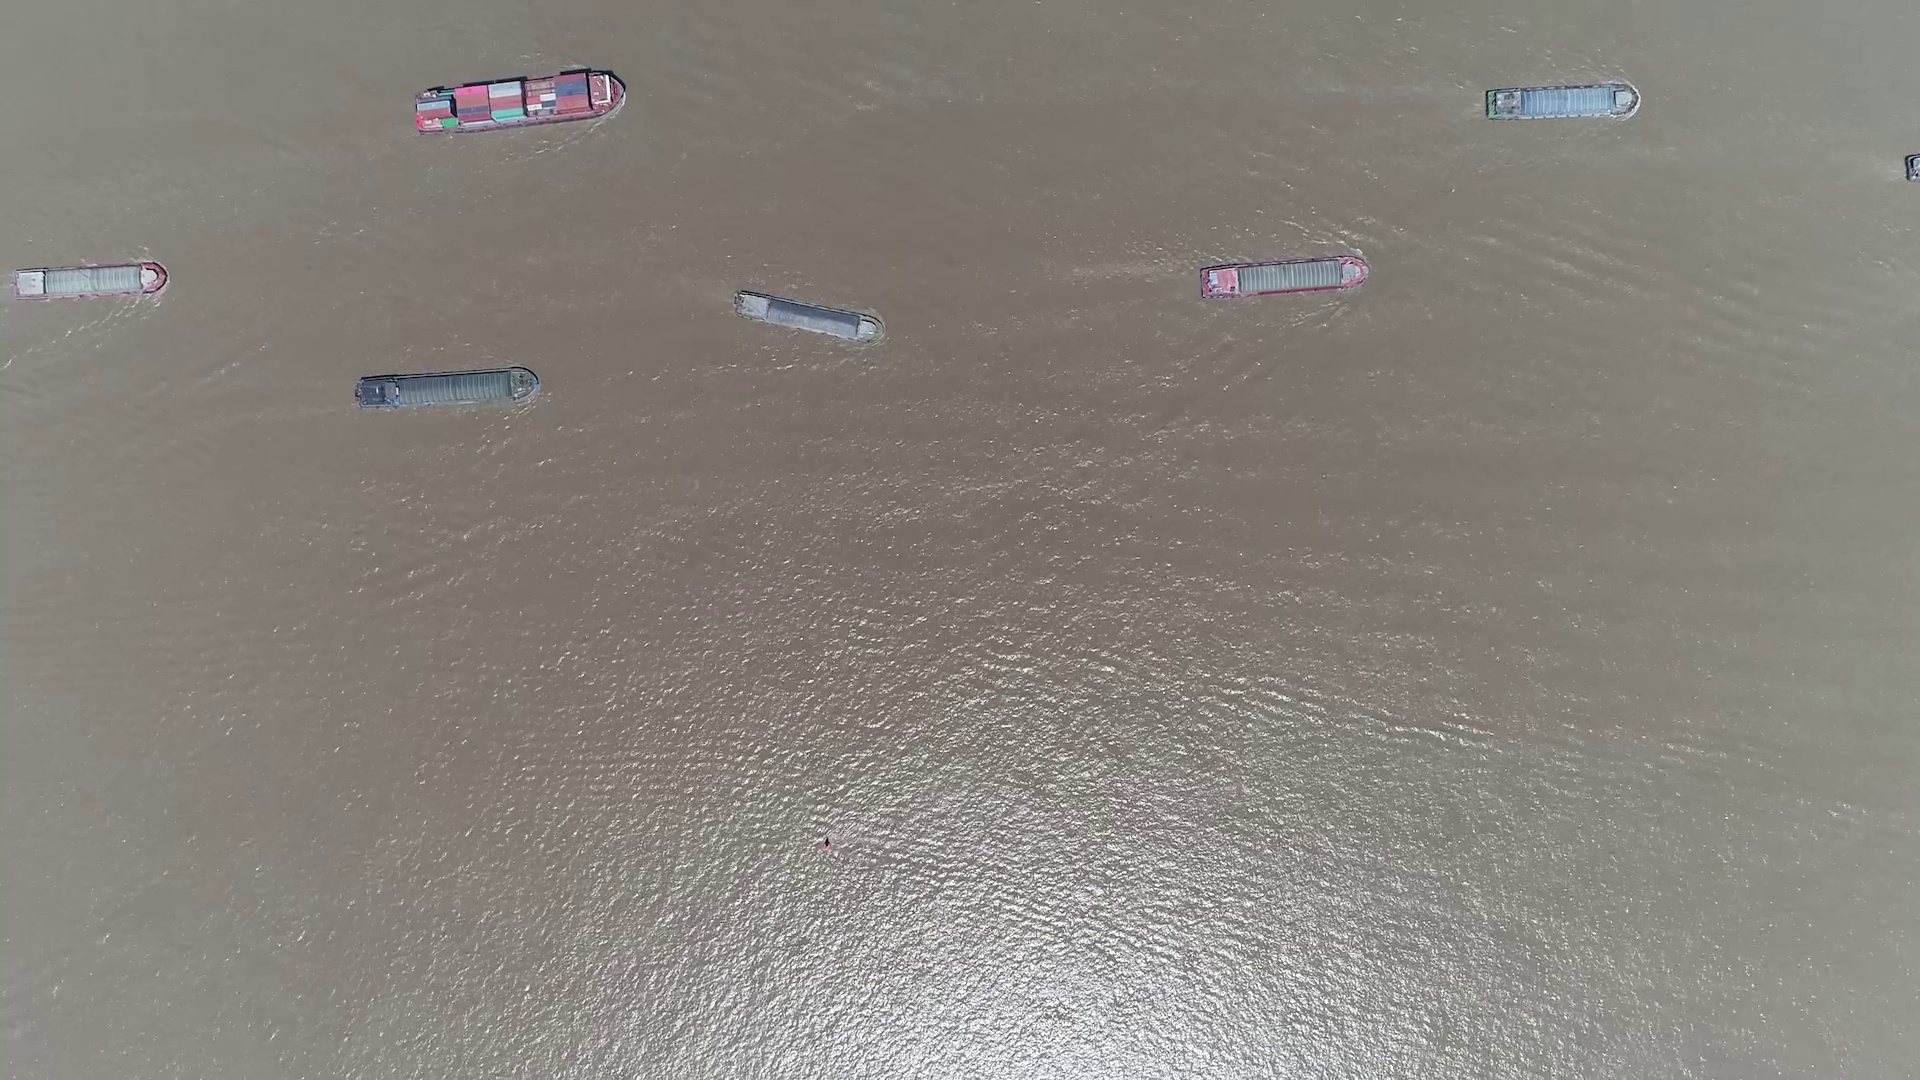ship: (415, 73, 625, 133), (353, 367, 538, 409), (733, 290, 881, 343), (1197, 255, 1369, 298), (1484, 83, 1638, 119), (15, 262, 165, 295)
